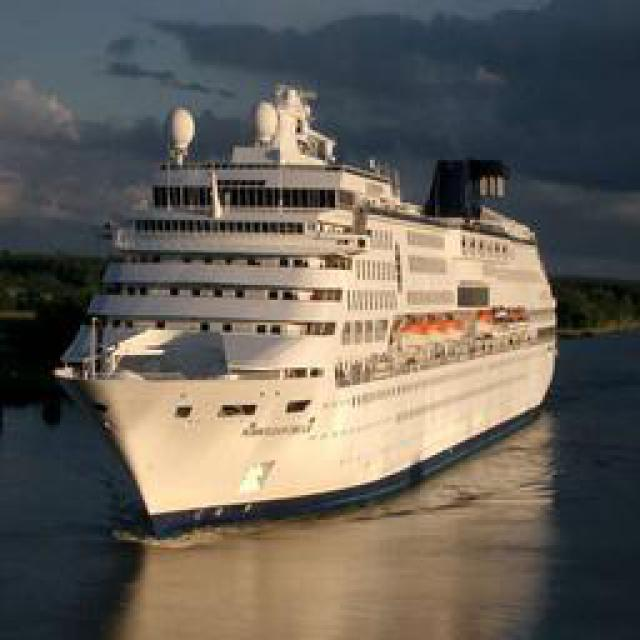Ship: (77, 103, 557, 538)
